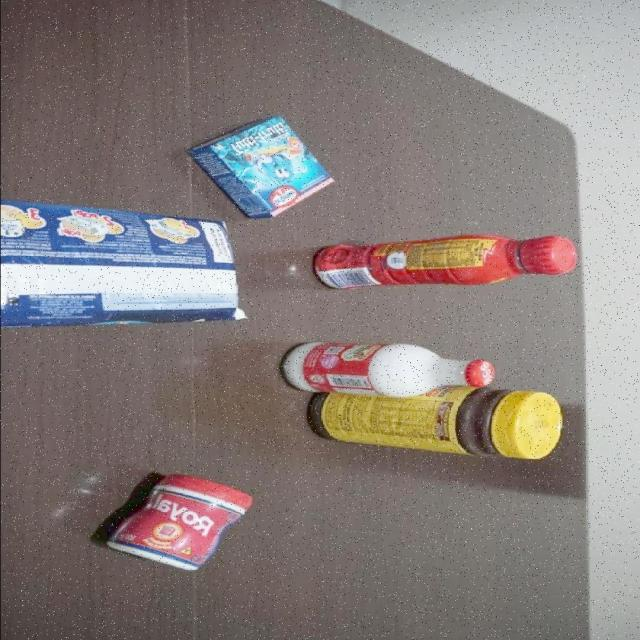ChocolateMilk: (309, 232, 578, 291)
ChocolatePowder: (300, 378, 563, 461)
CoconutMilk: (276, 338, 498, 399)
Gelatine: (184, 114, 335, 220)
Popcorn: (0, 192, 248, 331)
Yeast: (100, 473, 254, 572)
